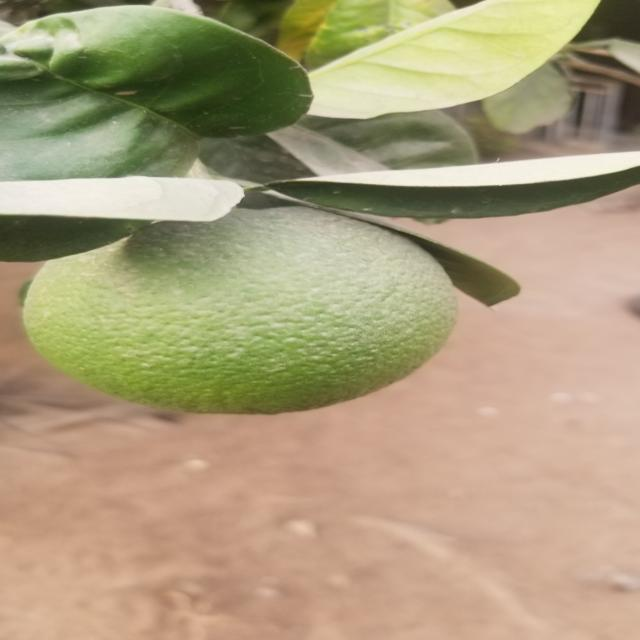Unripe: (23, 216, 460, 409)
